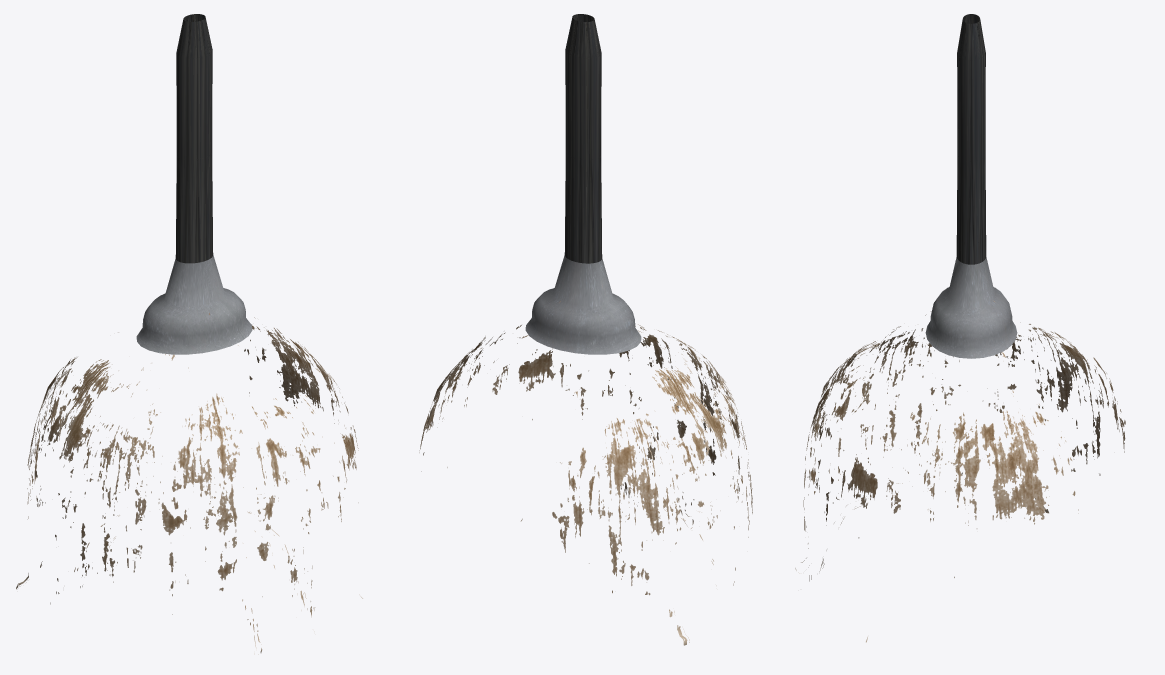
The model's file is lamp_shade.FBX.
The picture shows the model from 3 angles, left to right: view 1: azimuth 30°, elevation 25°; view 2: azimuth 150°, elevation 25°; view 3: azimuth 270°, elevation 25°; orthographic projection.
Parts seen in each view (by area): view 1: light; view 2: light; view 3: light.
Part boxes in pixels (<box>): light: <box>16,14,362,654</box>; light: <box>419,14,752,645</box>; light: <box>795,14,1125,642</box>.
Bounding box in the file's own units: 400 × 700 × 400.
3 materials, 3 textured.
